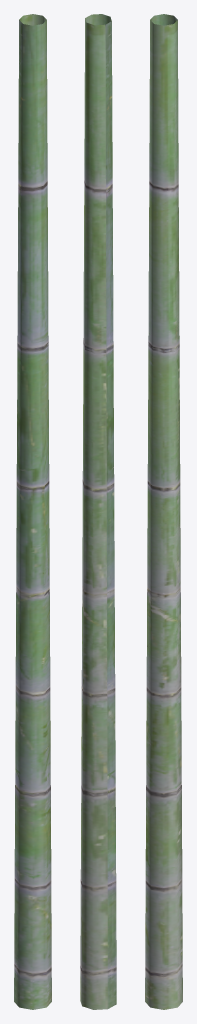
Rendered from bambooRod2.fbx.
The picture shows the model from 3 angles, left to right: view 1: azimuth 90°, elevation 25°; view 2: azimuth 210°, elevation 25°; view 3: azimuth 270°, elevation 25°; orthographic projection.
Parts seen in each view (by area): view 1: bamboo stick 2; view 2: bamboo stick 2; view 3: bamboo stick 2.
Part boxes in pixels (left/top/right/bottom): bamboo stick 2: left=14, top=14, right=51, bottom=1009; bamboo stick 2: left=80, top=14, right=116, bottom=1009; bamboo stick 2: left=145, top=14, right=182, bottom=1009.
Bounding box in the file's own units: 16.81 × 480 × 16.81.
